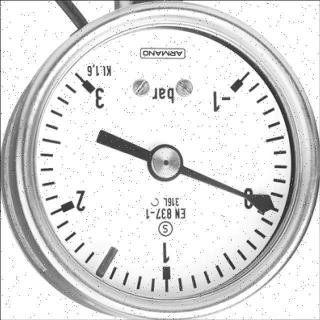gauge: (0, 0, 320, 320), (207, 65, 249, 119), (72, 61, 113, 109), (146, 142, 184, 184), (265, 202, 277, 212)
